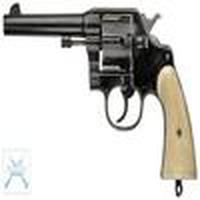gun: (6, 12, 200, 150)
